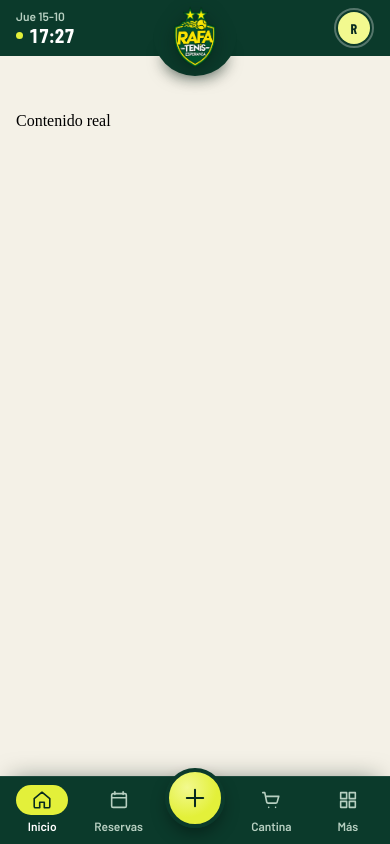
Scenario: AdminShell › oculta las secciones restringidas al personal operativo y no ofrece cobrar cuotas
Click the button named "Crear". click: (195, 811)
box: [157, 777, 233, 843]
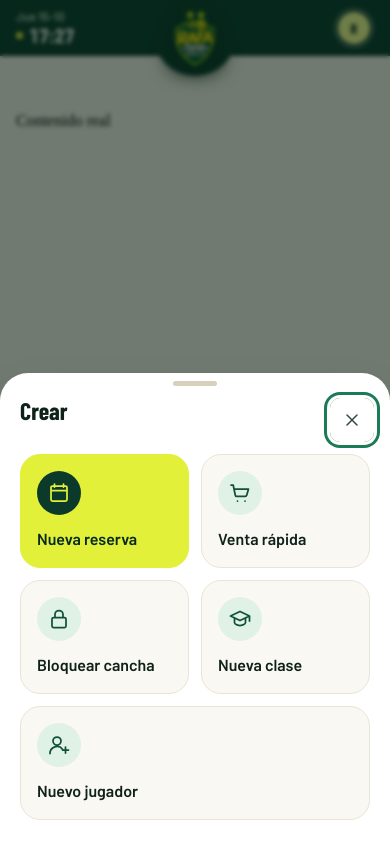
expect the button "Nueva reserva" is shown: met, box [20, 454, 189, 568]
